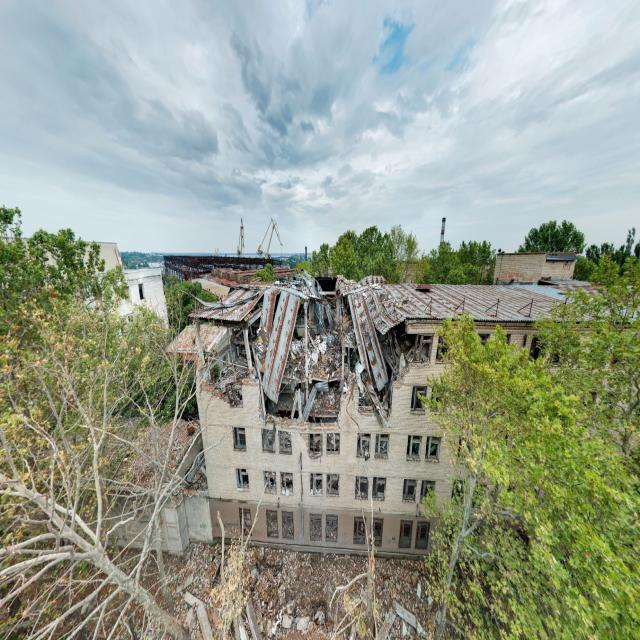broken_window: (411, 384, 427, 414), (425, 434, 440, 462), (406, 434, 422, 460), (356, 432, 370, 460), (262, 427, 276, 452), (308, 432, 321, 458), (232, 426, 246, 450), (235, 467, 249, 491), (375, 434, 389, 458), (326, 473, 339, 497), (326, 432, 340, 454), (310, 472, 322, 496)
building: (171, 258, 618, 560)
